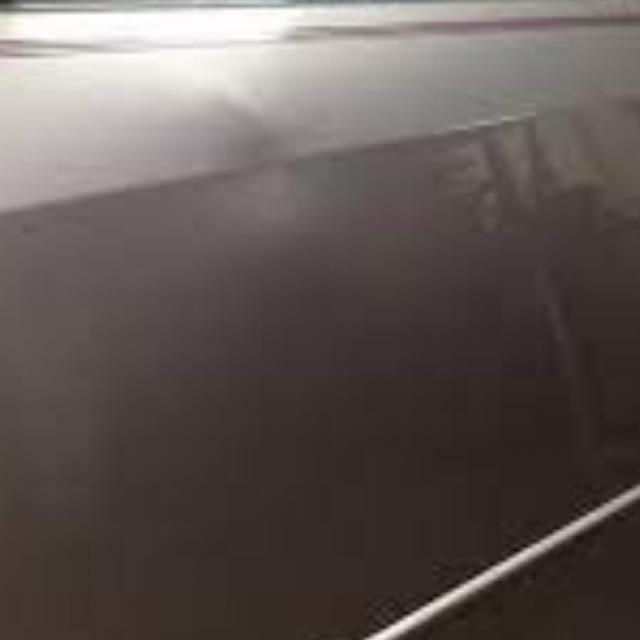dents: (175, 90, 311, 214)
